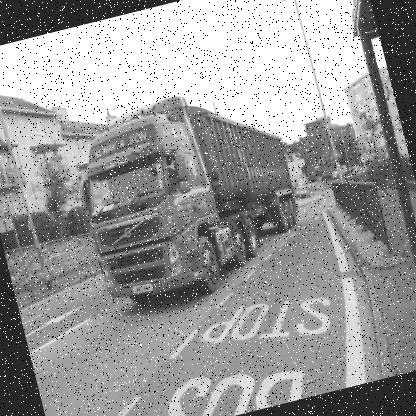Car: (296, 184, 310, 200)
